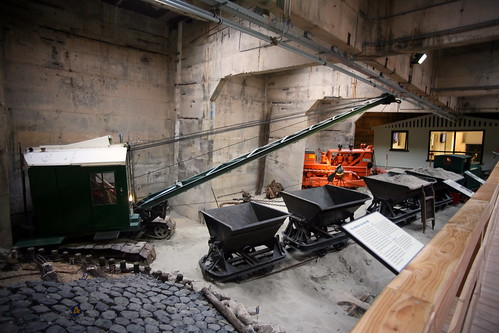crane: (32, 91, 397, 272)
